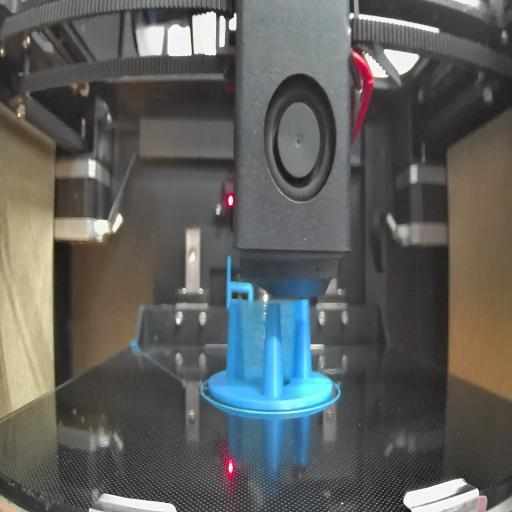stringing: (231, 302, 264, 396), (282, 302, 298, 386)
